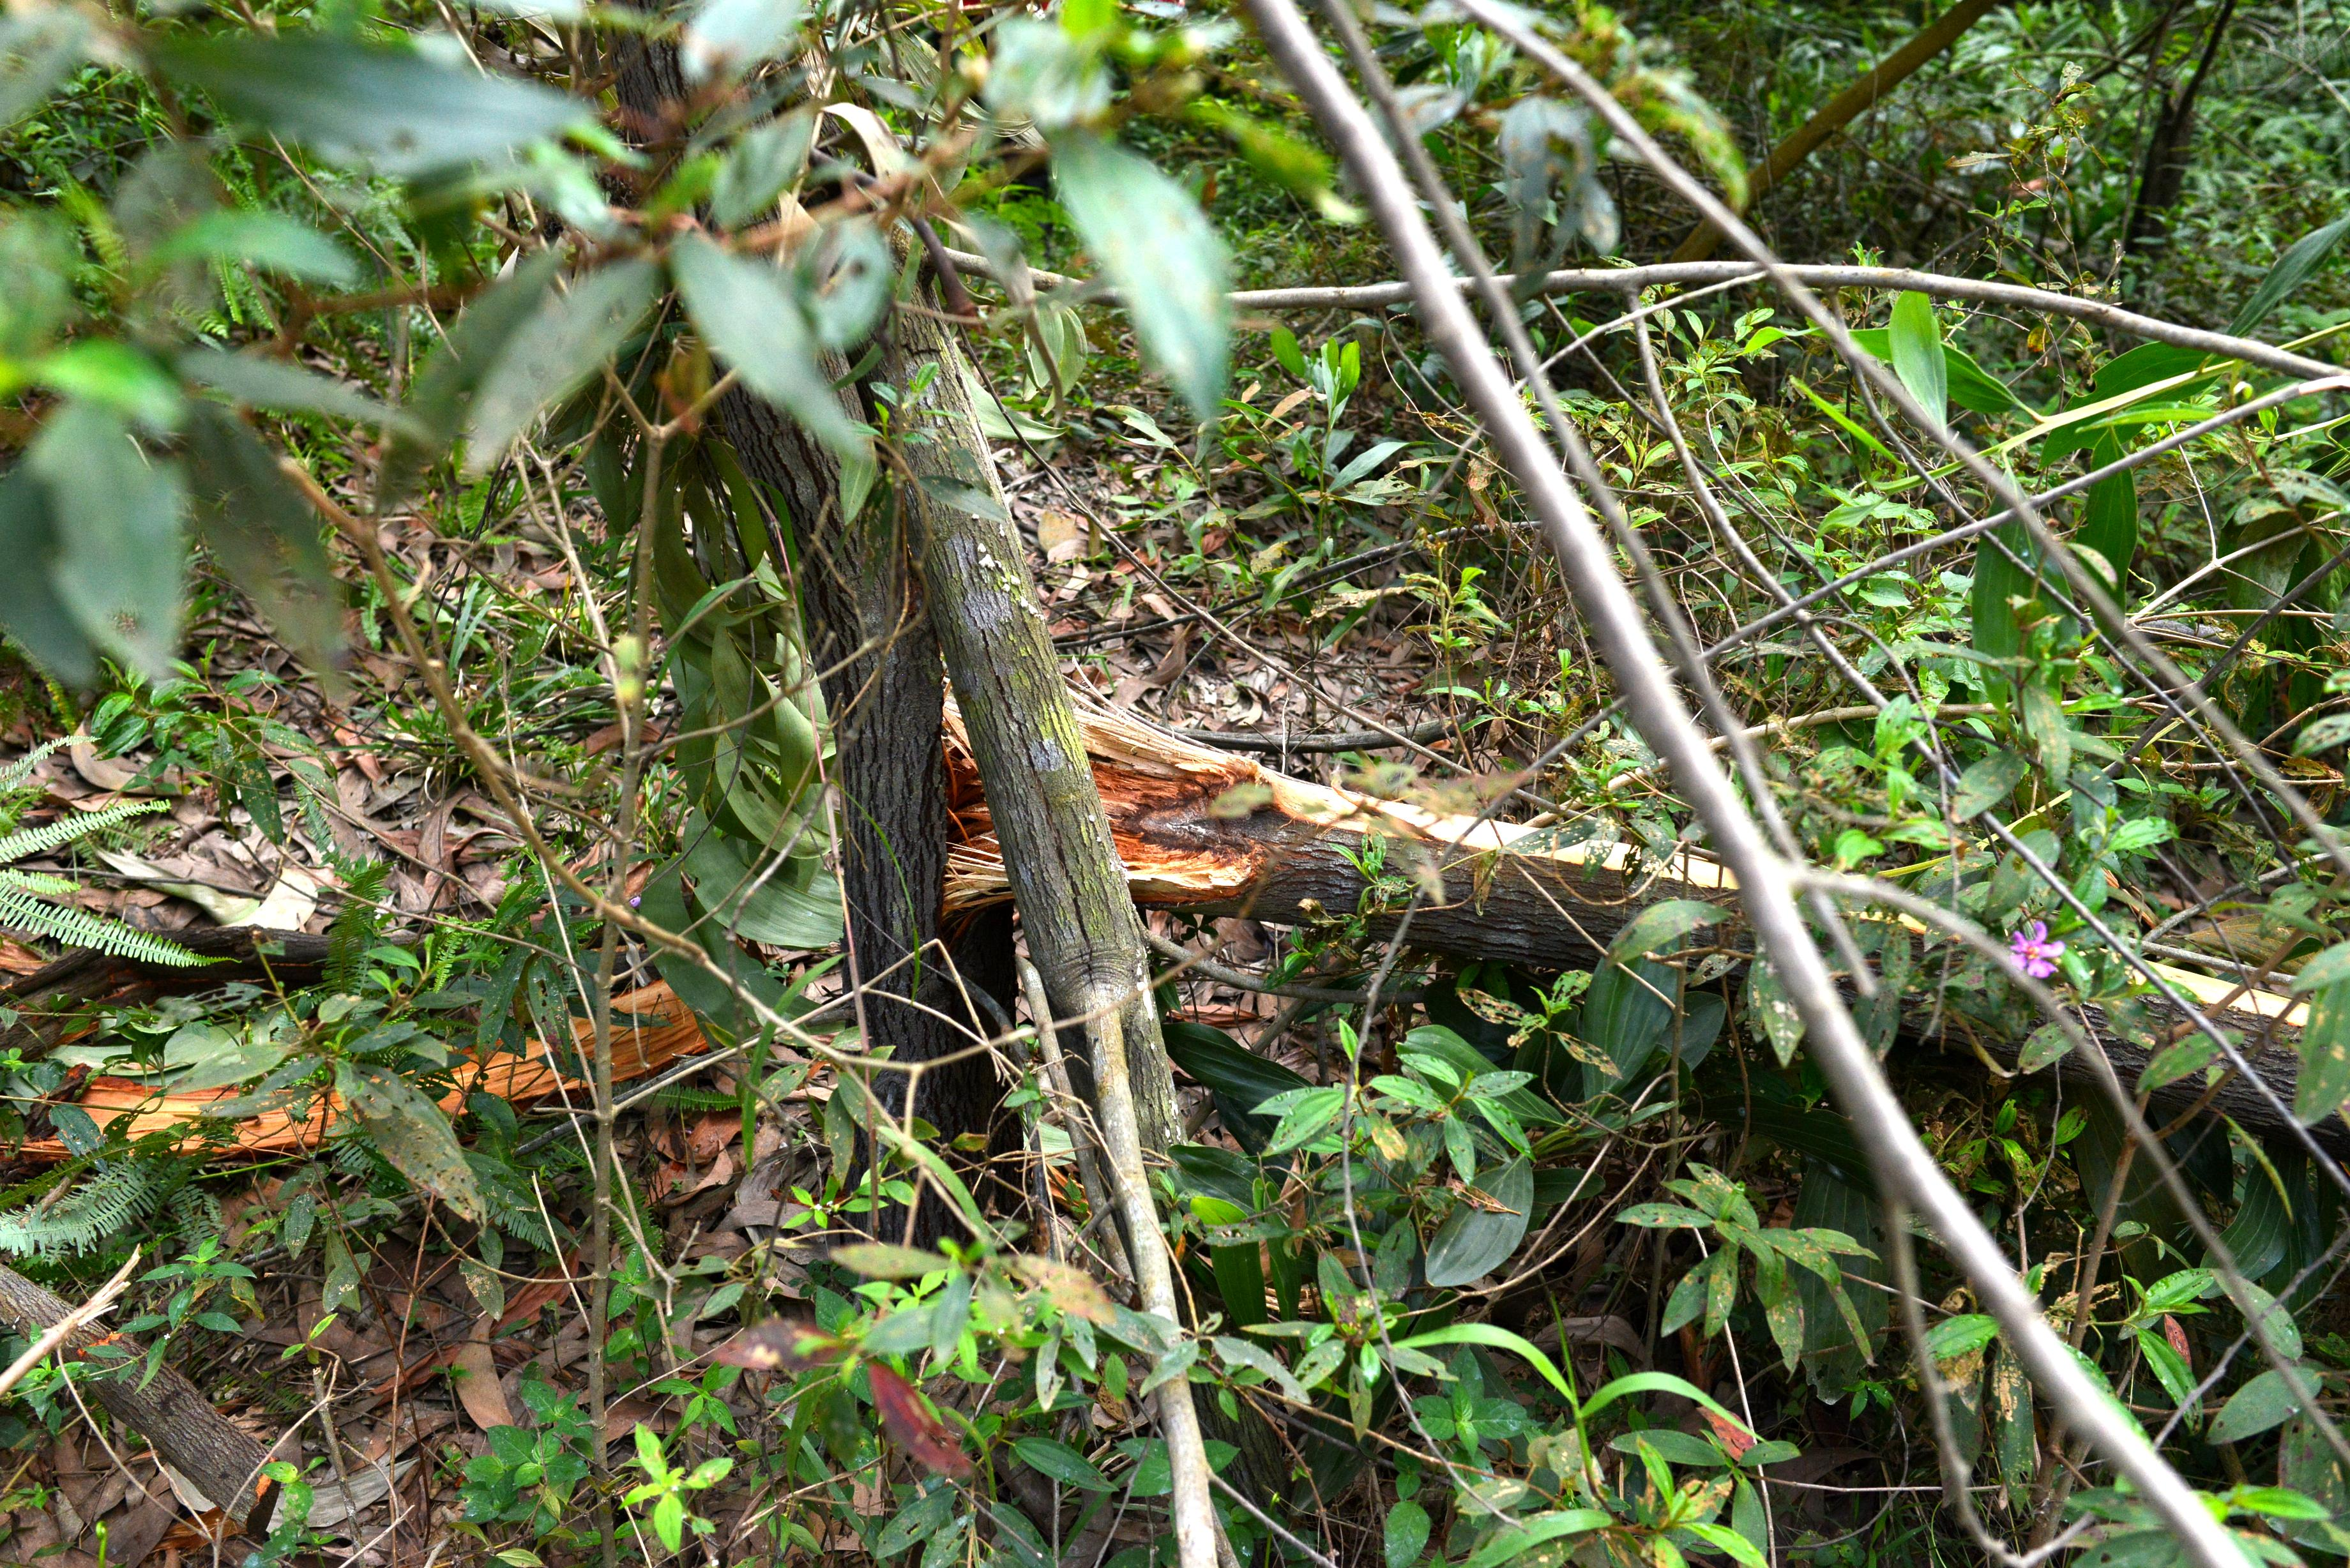Mammals Attack: (1286, 773, 2310, 1031)
